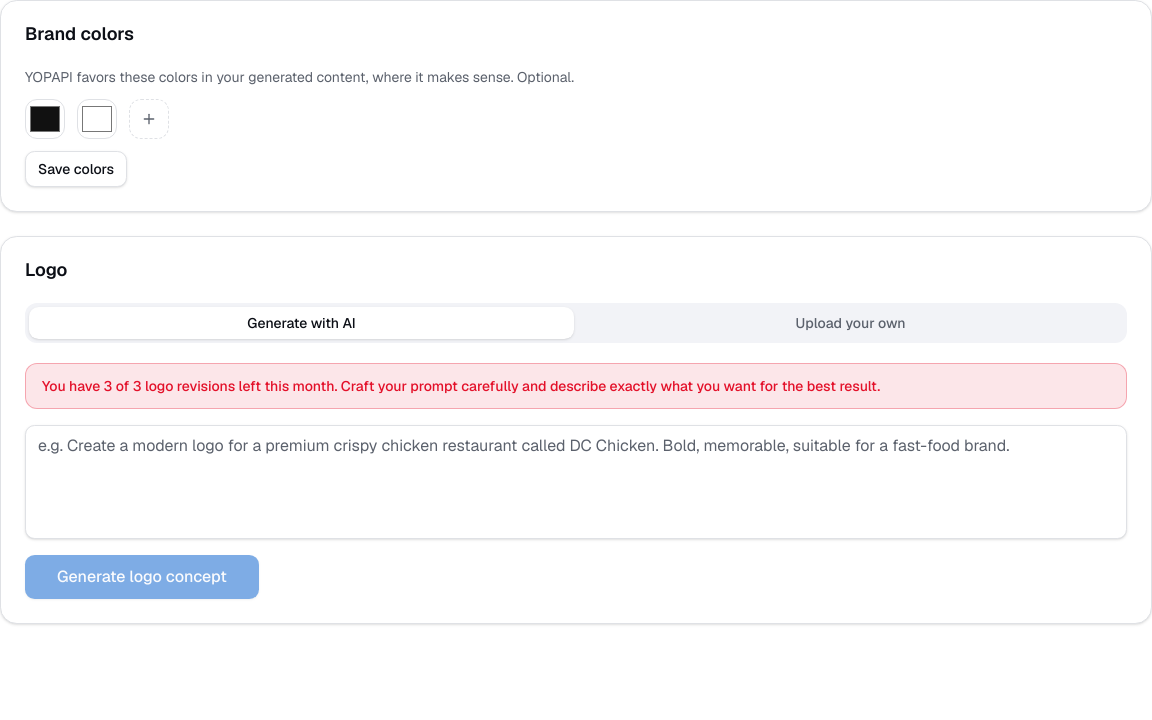
Test: GenerateLogoForm › disables the generate button until a prompt is typed
This screenshot has width=1152, height=720.
Expected: the button "Generate logo concept" is disabled, [25,555,259,599]
Replace the text in the text box with placeholder "Create a modern logo" with "A bold logo for a chicken restaurant" at (576, 482), box [25,425,1127,539]
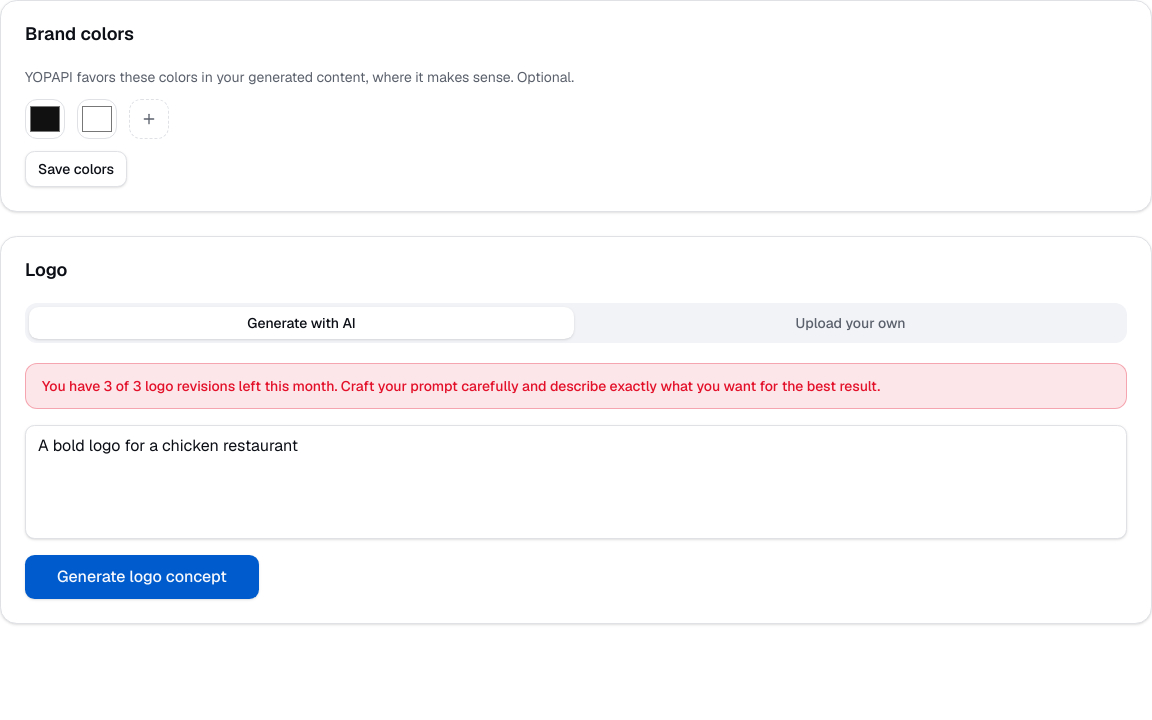
Expected: the button "Generate logo concept" is enabled, [25,555,259,599]
